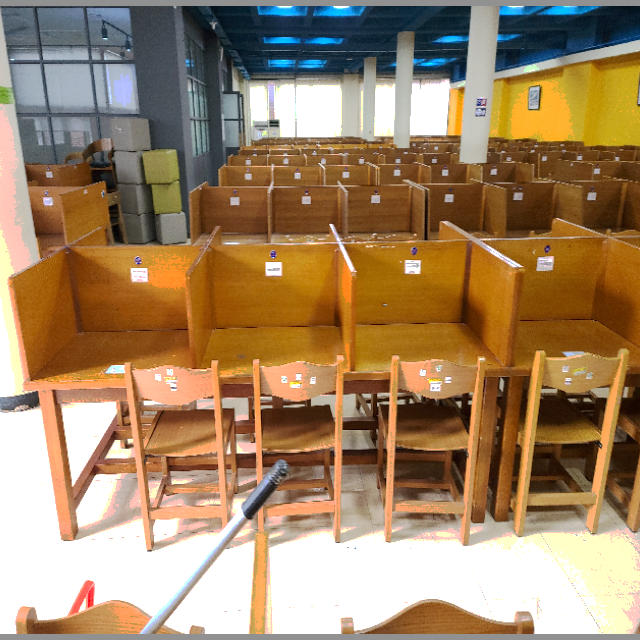empty: (14, 237, 189, 470), (355, 225, 506, 457), (194, 239, 353, 457)
